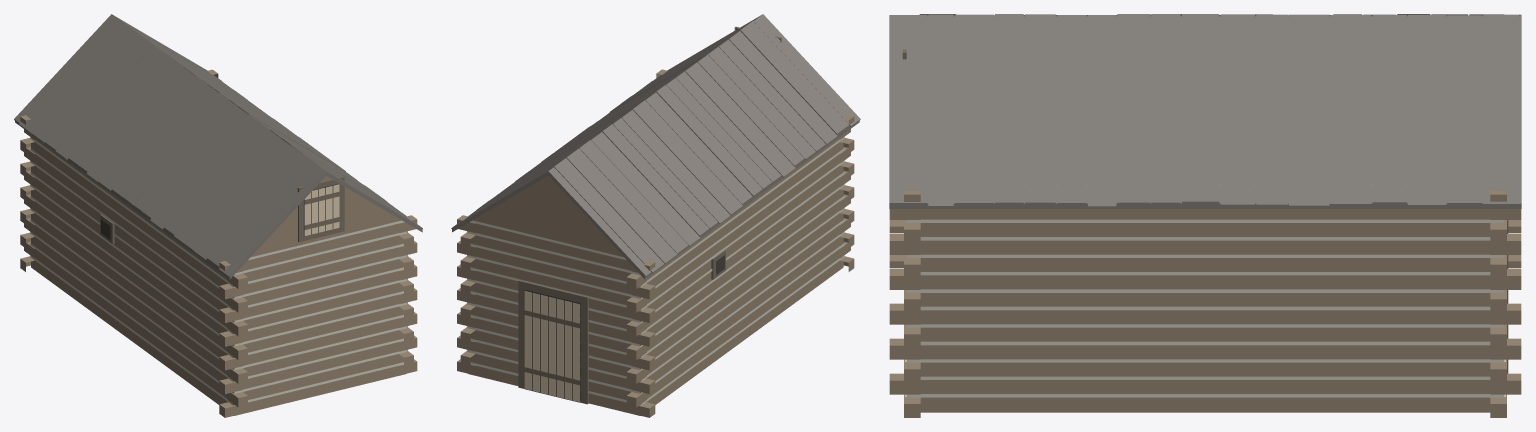
File: recon_1835_blk_washington_clark_a1_06__inferred_1835.glb
The picture shows the model from 3 angles, left to right: view 1: azimuth 30°, elevation 25°; view 2: azimuth 150°, elevation 25°; view 3: azimuth 270°, elevation 25°; orthographic projection. The views are drawn at different scales.
Parts seen in each view (by area): view 1: recon_1835_blk_washington_clark_a1_06__inferred_1835; view 2: recon_1835_blk_washington_clark_a1_06__inferred_1835; view 3: recon_1835_blk_washington_clark_a1_06__inferred_1835.
Part boxes in pixels (box(x1,y1,x2,y2)): recon_1835_blk_washington_clark_a1_06__inferred_1835: box(14, 14, 422, 417); recon_1835_blk_washington_clark_a1_06__inferred_1835: box(451, 14, 860, 417); recon_1835_blk_washington_clark_a1_06__inferred_1835: box(889, 14, 1521, 417).
Size of the model in its own units: 4.75 by 5.27 by 8.97.
